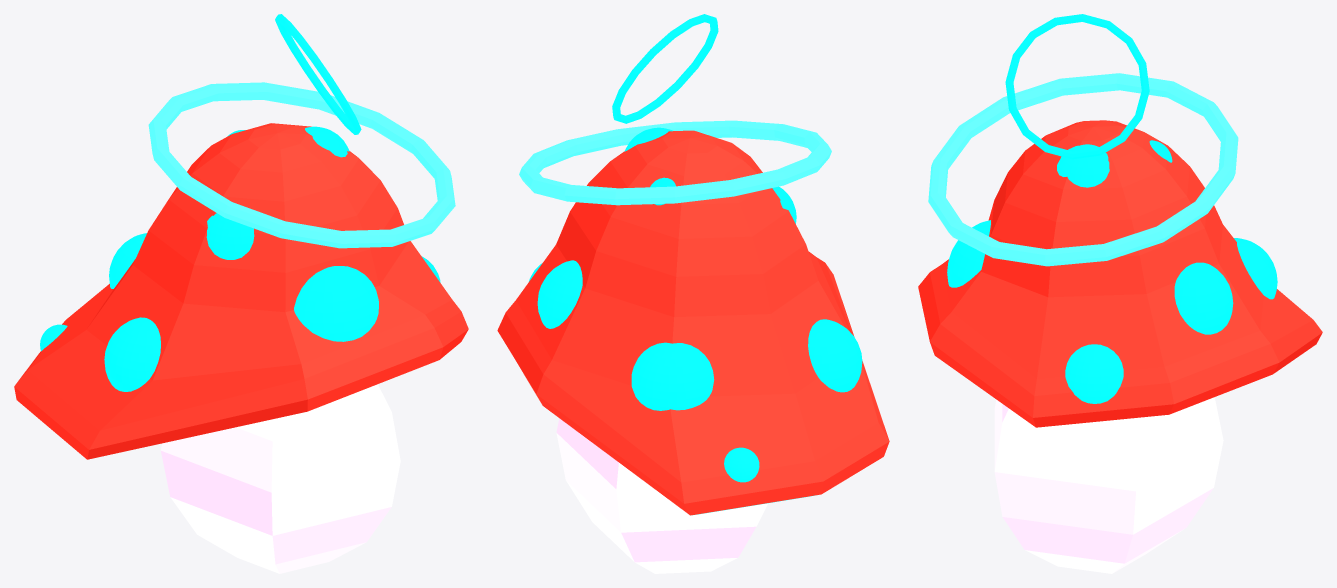
Rendered from Mushrooms_4.fbx.
3 renders of one model, left to right at view 1: azimuth 30°, elevation 25°; view 2: azimuth 150°, elevation 25°; view 3: azimuth 270°, elevation 25°, orthographic.
Visible parts, largest first — view 1: Mushroom 4; view 2: Mushroom 4; view 3: Mushroom 4.
Boxes of the visible parts, left/top/right/bottom form: Mushroom 4: left=14, top=14, right=468, bottom=573; Mushroom 4: left=497, top=14, right=889, bottom=573; Mushroom 4: left=918, top=14, right=1322, bottom=573.
Bounding box in the file's own units: 244 × 355 × 238.
